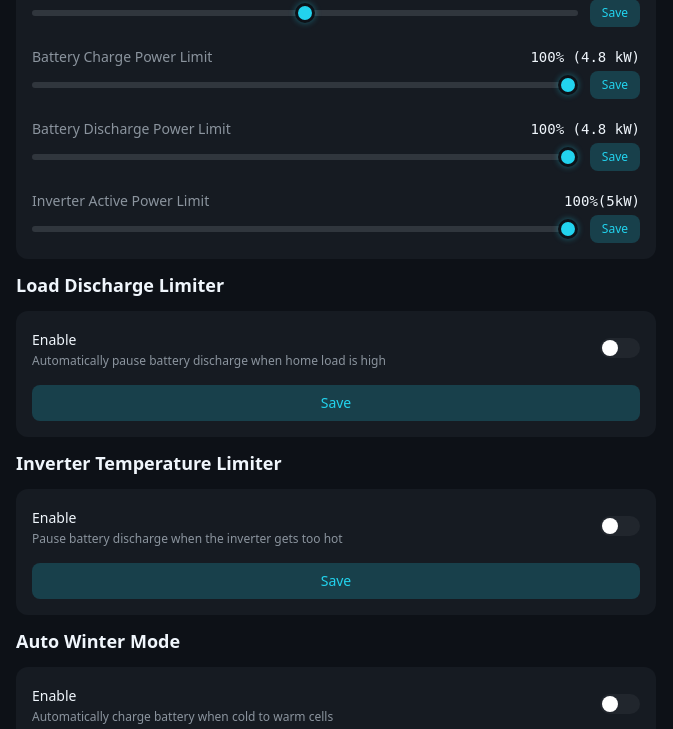
Test: <ControlPage/> — Load Discharge Limiter status (issue #158) › hides disabled feature settings and reveals them when toggled on
The image size is (673, 729).
(page scrolled)
Check: the text "Load Threshold" is not shown
Check: the button "Save" below "Load Discharge Limiter" is shown, box [32, 385, 640, 421]
Click the 5th button.
click(620, 348)  # box [600, 338, 640, 358]
(page scrolled)
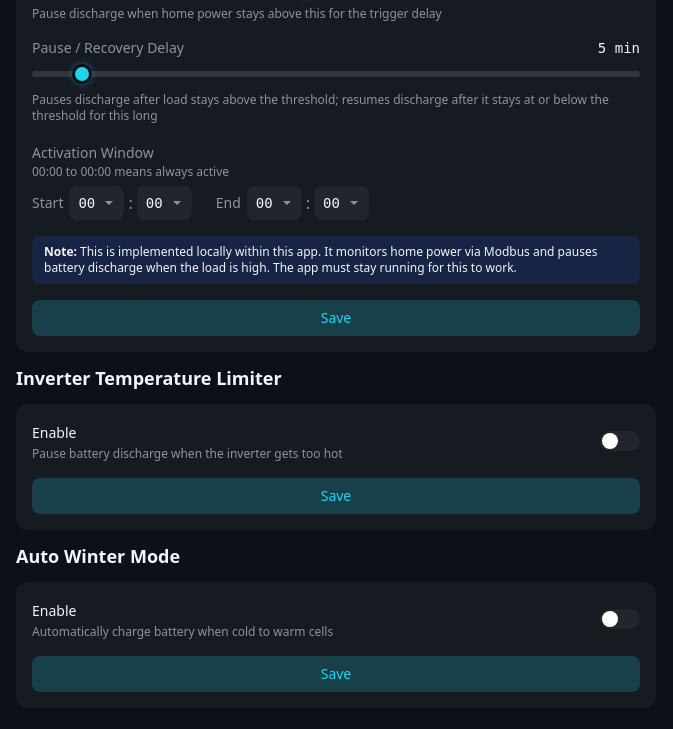
Click the button named "Enable inverter temperature limiter".
click(620, 441)  # box [600, 431, 640, 451]
(page scrolled)
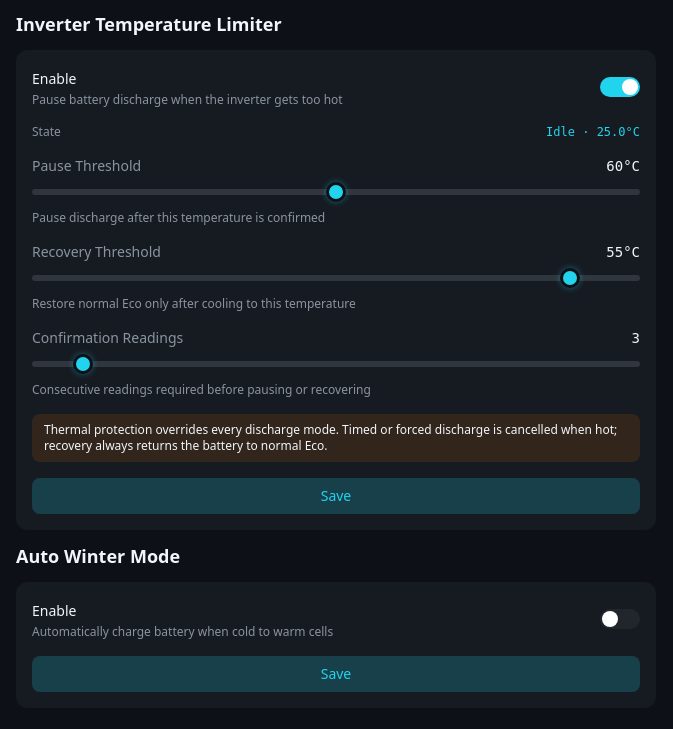
Click the 4th button.
click(620, 619)  # box [600, 609, 640, 629]
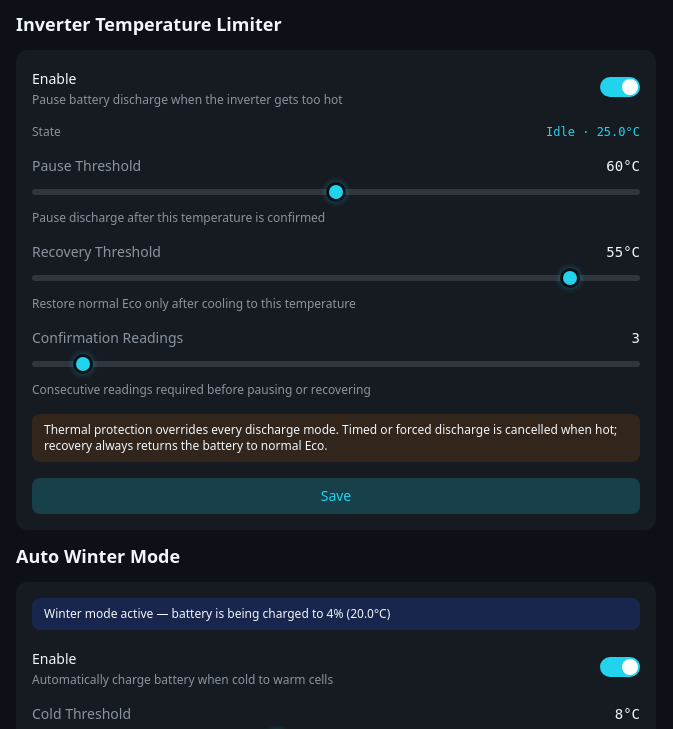
Check: the text "Pause Threshold" is shown, box [32, 156, 141, 176]
Check: the text "Cold Threshold" is shown, box [32, 704, 131, 724]
Check: the text "Winter mode active — battery is being charged to 4% (20.0°C)" is shown, box [32, 598, 640, 630]
